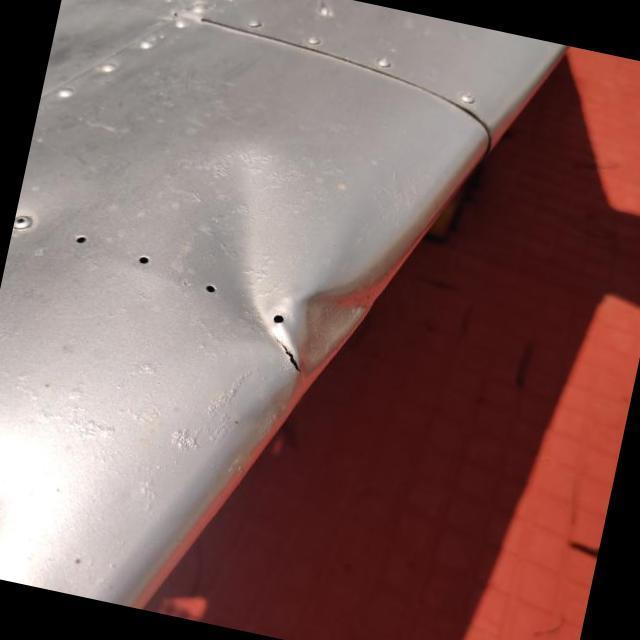Dent: (158, 136, 451, 406), (0, 451, 25, 554)
Rupture: (244, 321, 326, 391)
